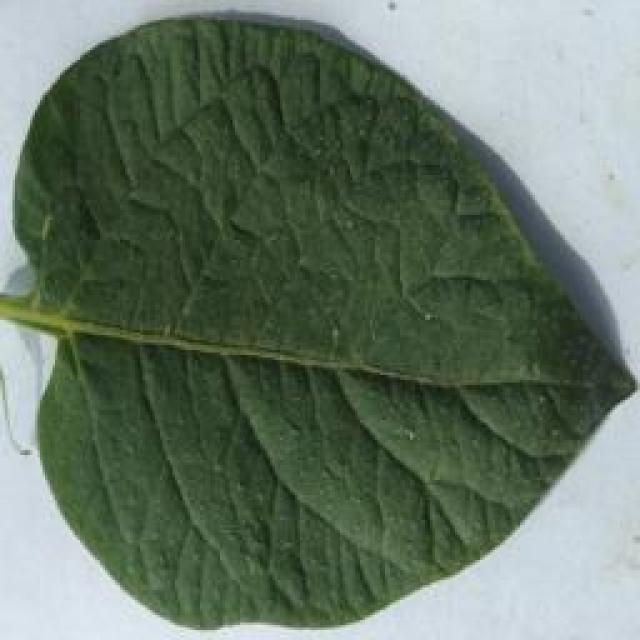Potato_Healthy: (2, 1, 633, 630)
